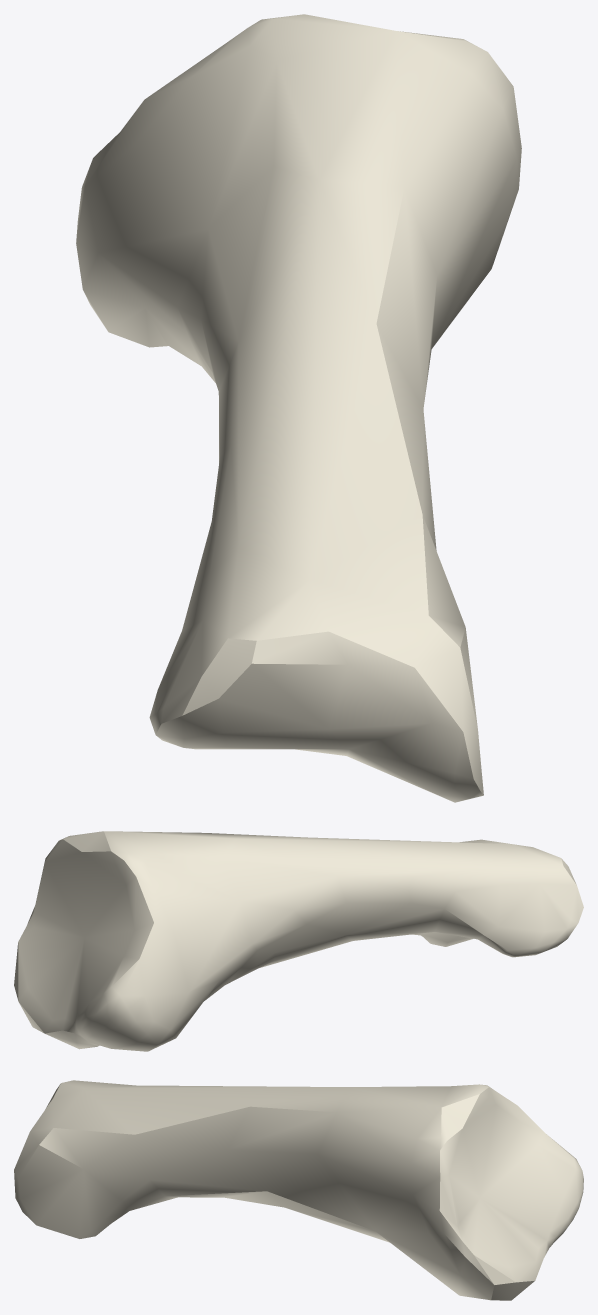
The model's file is fma32636_fj3320.glb.
The picture shows the model from 3 angles, top to bottom: view 1: azimuth 30°, elevation 25°; view 2: azimuth 150°, elevation 25°; view 3: azimuth 270°, elevation 25°; orthographic projection. The views are drawn at different scales.
Parts seen in each view (by area): view 1: FMA32636_FJ3320; view 2: FMA32636_FJ3320; view 3: FMA32636_FJ3320.
Part boxes in pixels (x1=…): FMA32636_FJ3320: x1=76, y1=14, x2=521, y2=802; FMA32636_FJ3320: x1=14, y1=831, x2=583, y2=1051; FMA32636_FJ3320: x1=14, y1=1080, x2=583, y2=1300.
Size of the model in its own units: 0.0208 by 0.0114 by 0.0284.
